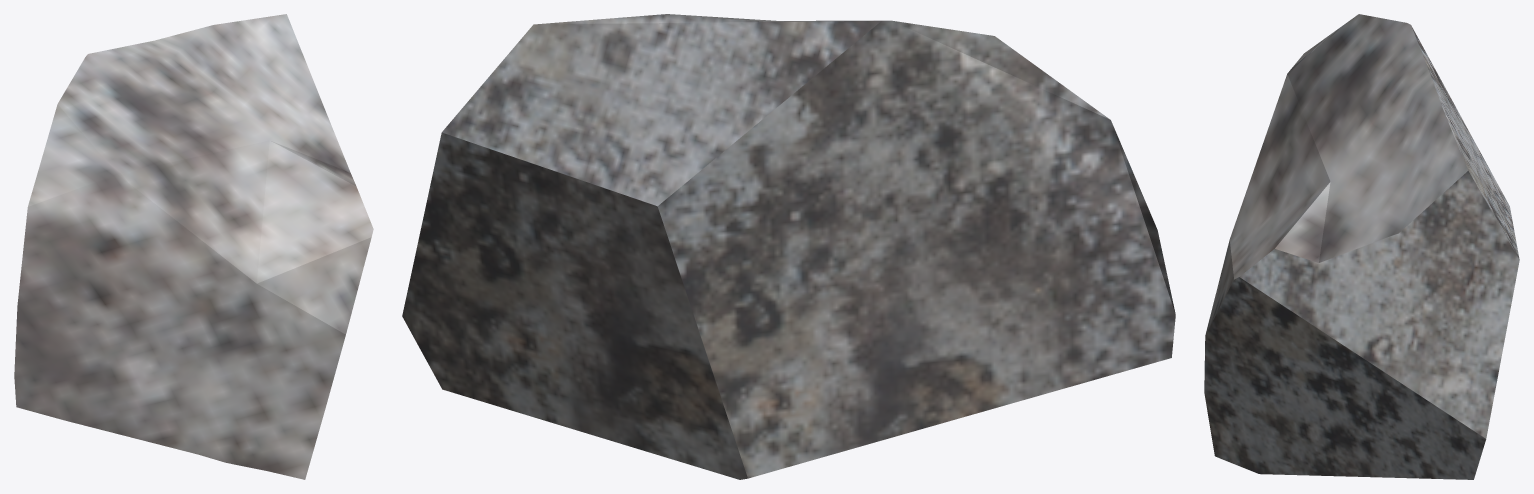
File: Asteroid_Large_001_02_009_03_009.fbx
3 views of the same model, side by side, from view 1: azimuth 30°, elevation 25°; view 2: azimuth 150°, elevation 25°; view 3: azimuth 270°, elevation 25° (orthographic). The views are drawn at different scales.
Parts seen in each view (by area): view 1: Asteroid_Large_001_02_009_03_009; view 2: Asteroid_Large_001_02_009_03_009; view 3: Asteroid_Large_001_02_009_03_009.
Boxes of the visible parts, left/top/right/bottom form: Asteroid_Large_001_02_009_03_009: left=14, top=14, right=373, bottom=479; Asteroid_Large_001_02_009_03_009: left=402, top=14, right=1175, bottom=479; Asteroid_Large_001_02_009_03_009: left=1204, top=14, right=1519, bottom=479.
Bounding box in the file's own units: 8.46 × 6.79 × 5.09.
